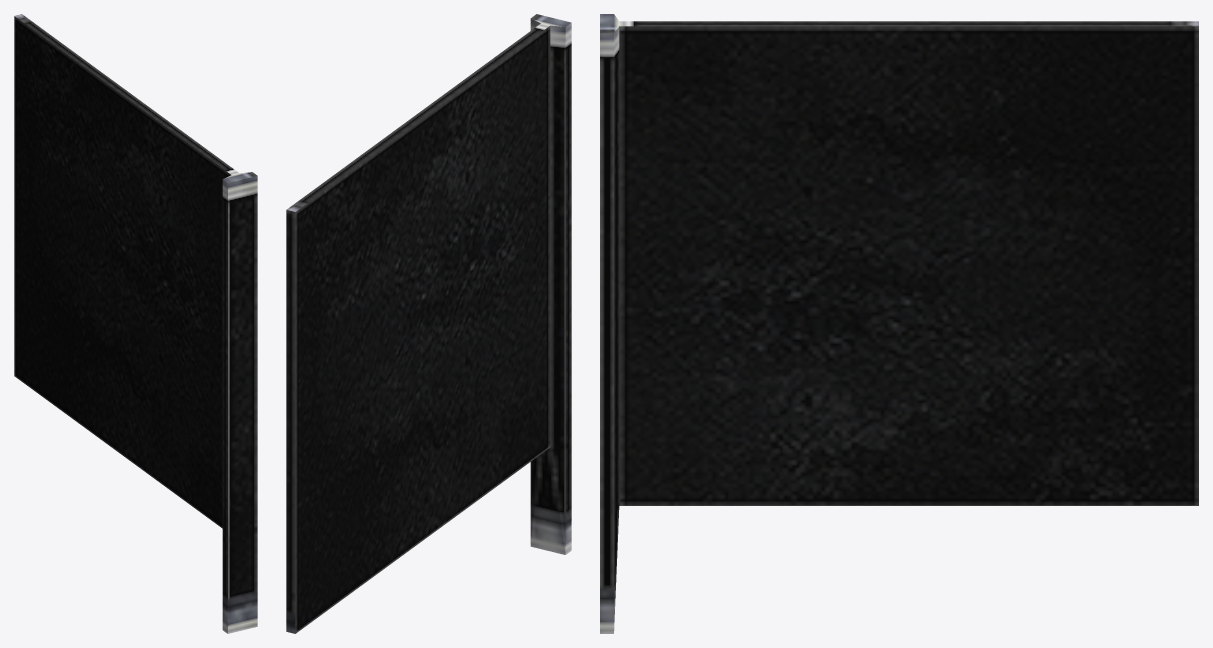
The model's file is restroom_stall.fbx.
3 views of the same model, side by side, from view 1: azimuth 30°, elevation 25°; view 2: azimuth 150°, elevation 25°; view 3: azimuth 270°, elevation 25° (orthographic). The views are drawn at different scales.
Parts seen in each view (by area): view 1: stall_wall.004; view 2: stall_wall.004; view 3: stall_wall.004.
Boxes of the visible parts, <box> form: stall_wall.004: <box>14,14,257,633</box>; stall_wall.004: <box>286,14,571,633</box>; stall_wall.004: <box>600,14,1198,633</box>.
Size of the model in its own units: 13.9 by 200 by 181.
1 material, 1 textured.
